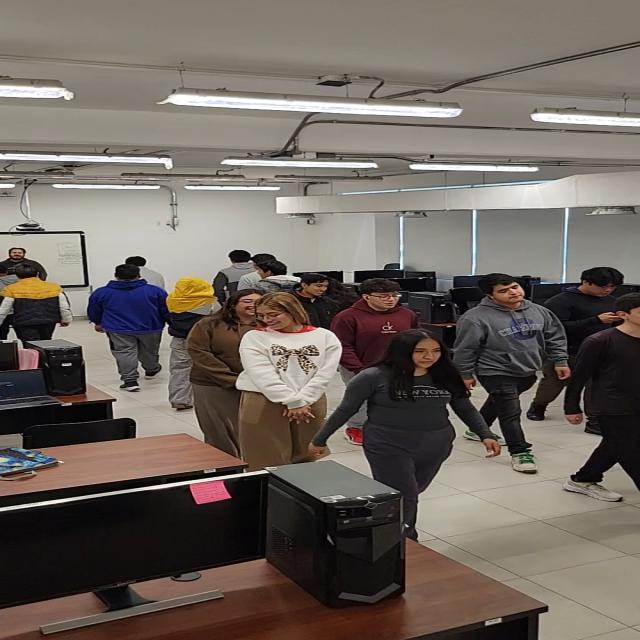Persona: (356, 335, 482, 519), (464, 274, 548, 472), (252, 290, 344, 448), (591, 293, 640, 510), (100, 260, 170, 383), (192, 292, 248, 419), (160, 274, 208, 392), (2, 271, 76, 346), (356, 270, 427, 342), (565, 256, 627, 332), (291, 276, 357, 319), (0, 240, 36, 272)
